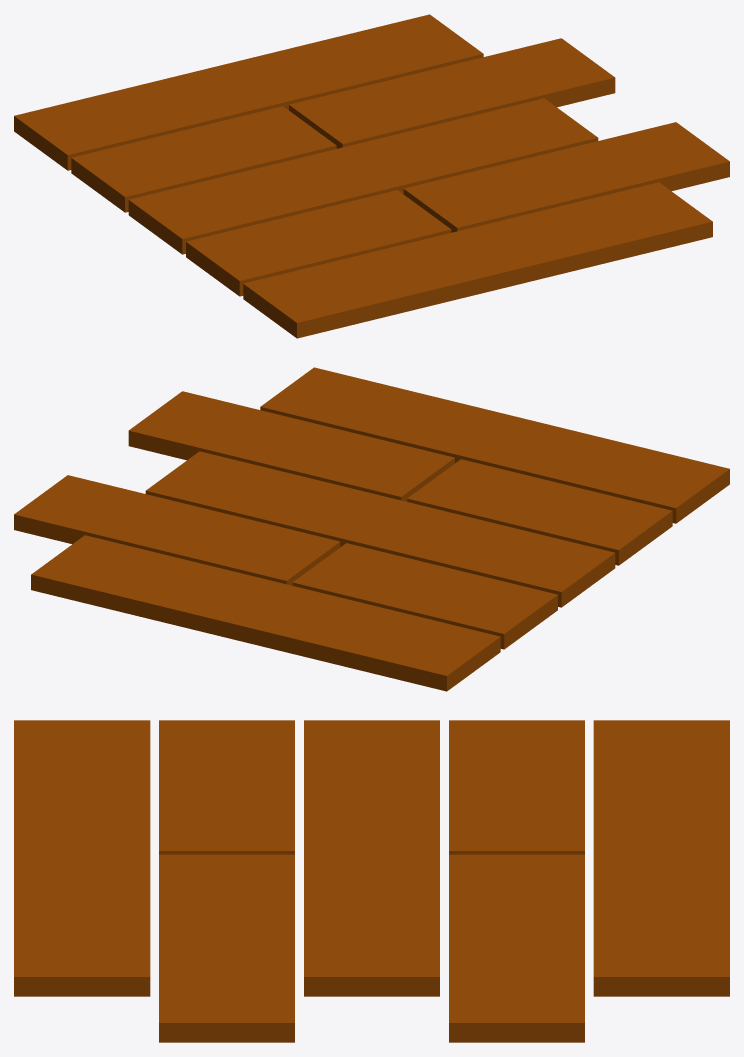
The model's file is RPG_Tiles_Square_Wooden_Boards_07.FBX.
3 renders of one model, top to bottom at view 1: azimuth 30°, elevation 25°; view 2: azimuth 150°, elevation 25°; view 3: azimuth 270°, elevation 25°, orthographic. The views are drawn at different scales.
Visible parts, largest first — view 1: RPG_Tiles_Square_Wooden_Boards_07; view 2: RPG_Tiles_Square_Wooden_Boards_07; view 3: RPG_Tiles_Square_Wooden_Boards_07.
Part boxes in pixels (x1,y1,x2,y2): RPG_Tiles_Square_Wooden_Boards_07: (14,14,729,338); RPG_Tiles_Square_Wooden_Boards_07: (14,367,729,691); RPG_Tiles_Square_Wooden_Boards_07: (14,720,729,1042).
Bounding box in the file's own units: 2964 × 90 × 2964.
